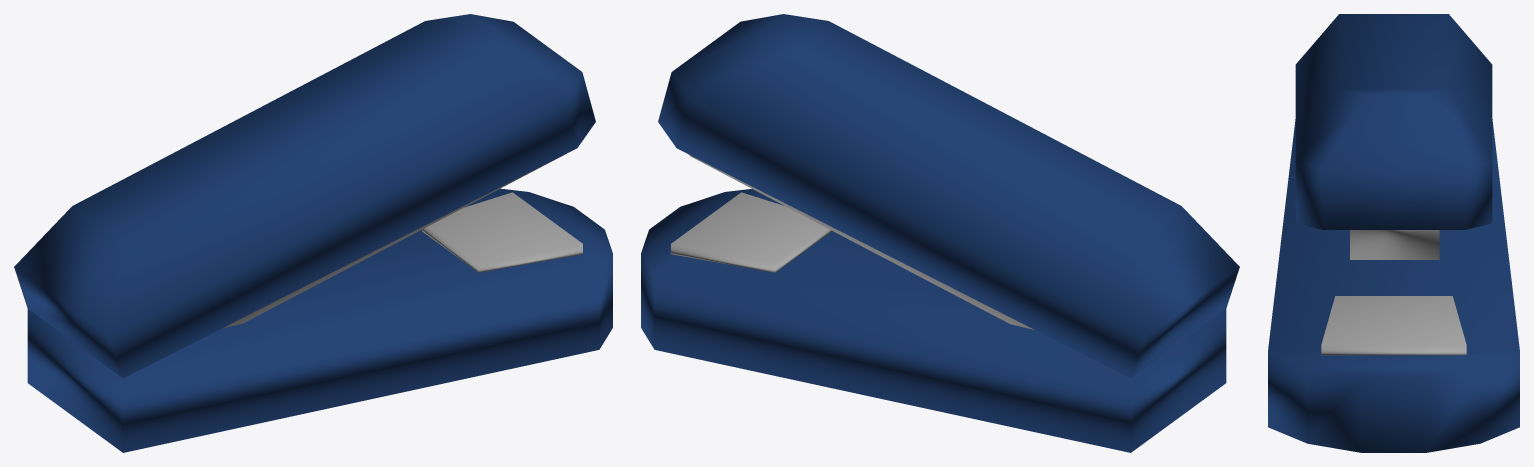
Rendered from Mesh_Stapler.fbx.
3 renders of one model, left to right at view 1: azimuth 30°, elevation 25°; view 2: azimuth 150°, elevation 25°; view 3: azimuth 270°, elevation 25°, orthographic. The views are drawn at different scales.
Visible parts, largest first — view 1: Stapler; view 2: Stapler; view 3: Stapler.
Boxes of the visible parts, x1,y1,x2,y2 form: Stapler: (14, 14, 612, 452); Stapler: (641, 14, 1239, 452); Stapler: (1268, 14, 1519, 452).
Bounding box in the file's own units: 3.39 × 1.81 × 1.36.
